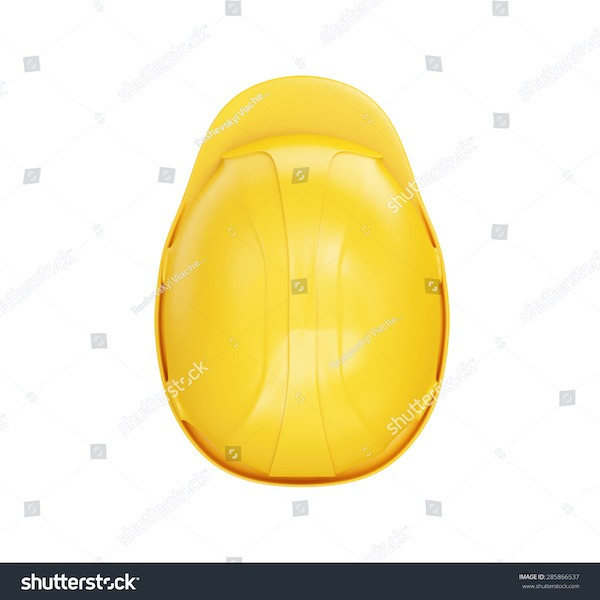helmet: (158, 74, 448, 491)
